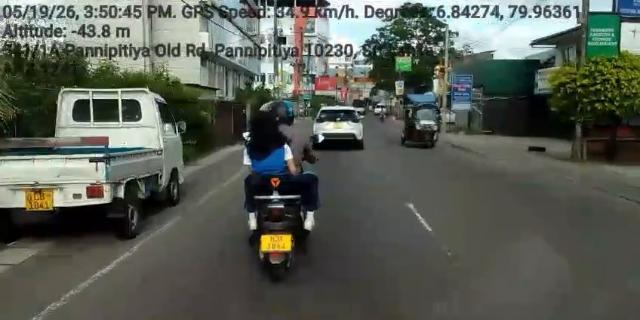no helmet: (247, 111, 279, 136)
